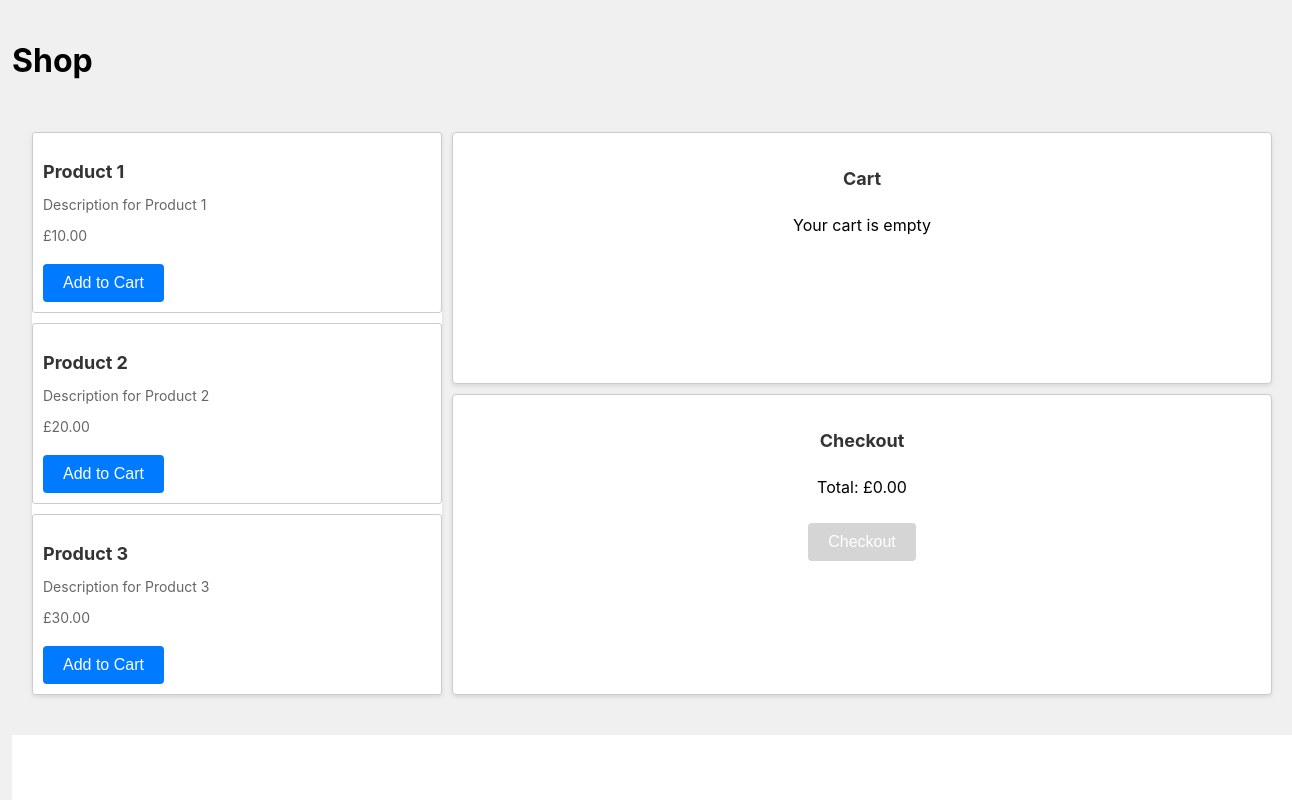
Test case: a product should be added to the cart when add to cart button is clicked
Check: the list item with test id "product-item" shows "Product 1", box [43,161,124,182]
# Click the add to cart button
Click the button "Add to Cart" below "Description for Product 1" at {"x": 103, "y": 283}, box [43,264,164,302]
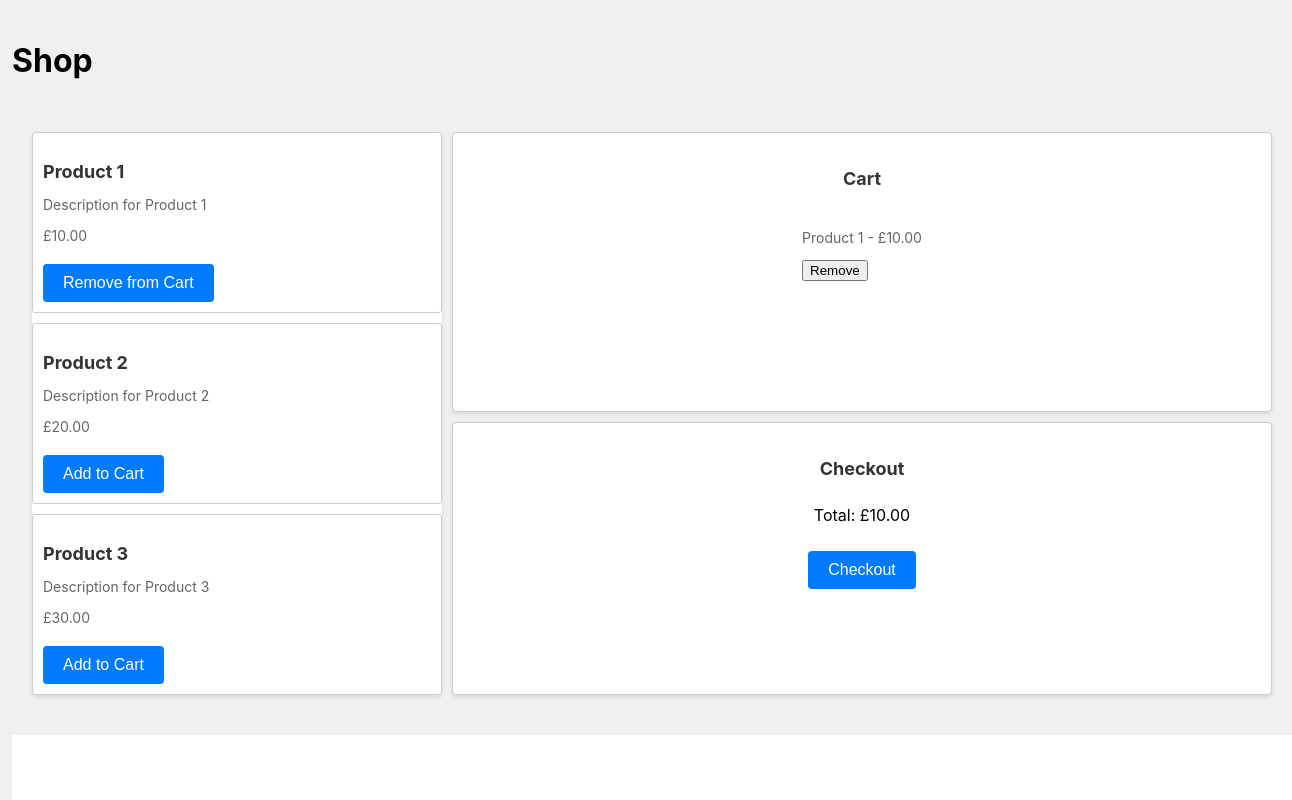
Check: the list with test id "cart-list" is shown, box [802,215,922,291]
Check: the list item with test id "cart-item-0" is shown, box [802,229,922,281]
Check: the list item with test id "cart-item-0" shows "Product 1", box [802,229,864,246]
